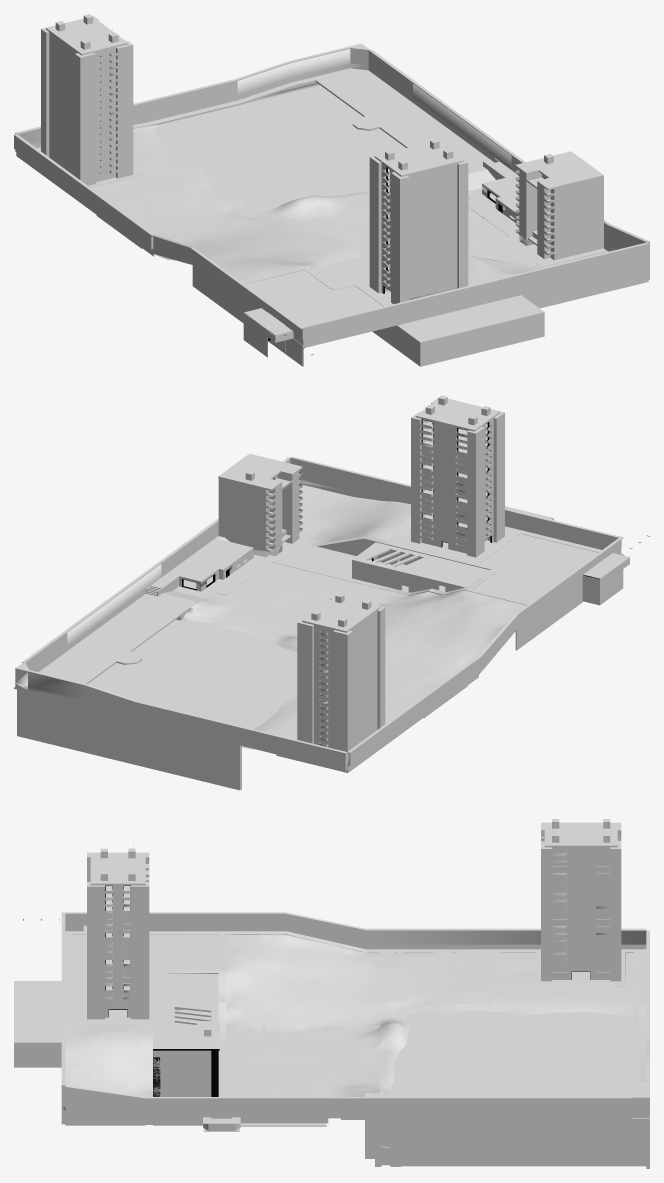
Rendered from gmc_final.fbx.
3 renders of one model, top to bottom at view 1: azimuth 30°, elevation 25°; view 2: azimuth 150°, elevation 25°; view 3: azimuth 270°, elevation 25°, orthographic. The views are drawn at different scales.
Parts seen in each view (by area): view 1: mainmap, water; view 2: mainmap, water; view 3: mainmap, water.
Part boxes in pixels (bbox=[...]): mainmap: bbox=[14, 14, 649, 366]; water: bbox=[155, 83, 405, 210]; mainmap: bbox=[14, 395, 629, 790]; water: bbox=[88, 619, 297, 750]; mainmap: bbox=[14, 819, 649, 1168]; water: bbox=[391, 1010, 638, 1092].
Bounding box in the file's own units: 24580 × 13685 × 34985.
70 materials, 1 textured.
